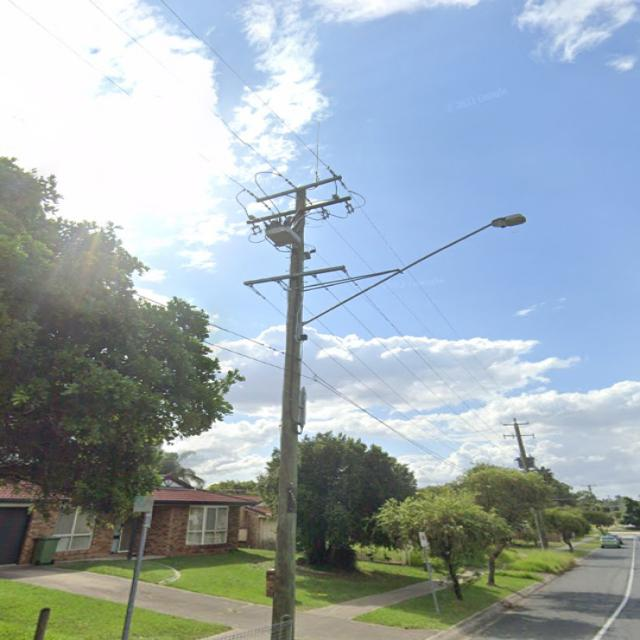HV-switch: (263, 216, 305, 247)
HV-transmission: (246, 166, 354, 236), (500, 418, 537, 439)
crossarm: (247, 194, 352, 224), (255, 174, 343, 202), (244, 264, 346, 286), (503, 422, 529, 427), (504, 434, 534, 438)
streetlight: (300, 211, 528, 327)
timber-pole: (269, 188, 306, 639), (514, 423, 547, 551)
transformer: (516, 454, 536, 469)
